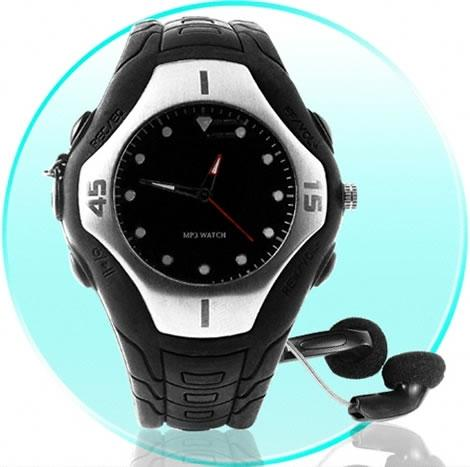watch: (46, 51, 367, 325)
